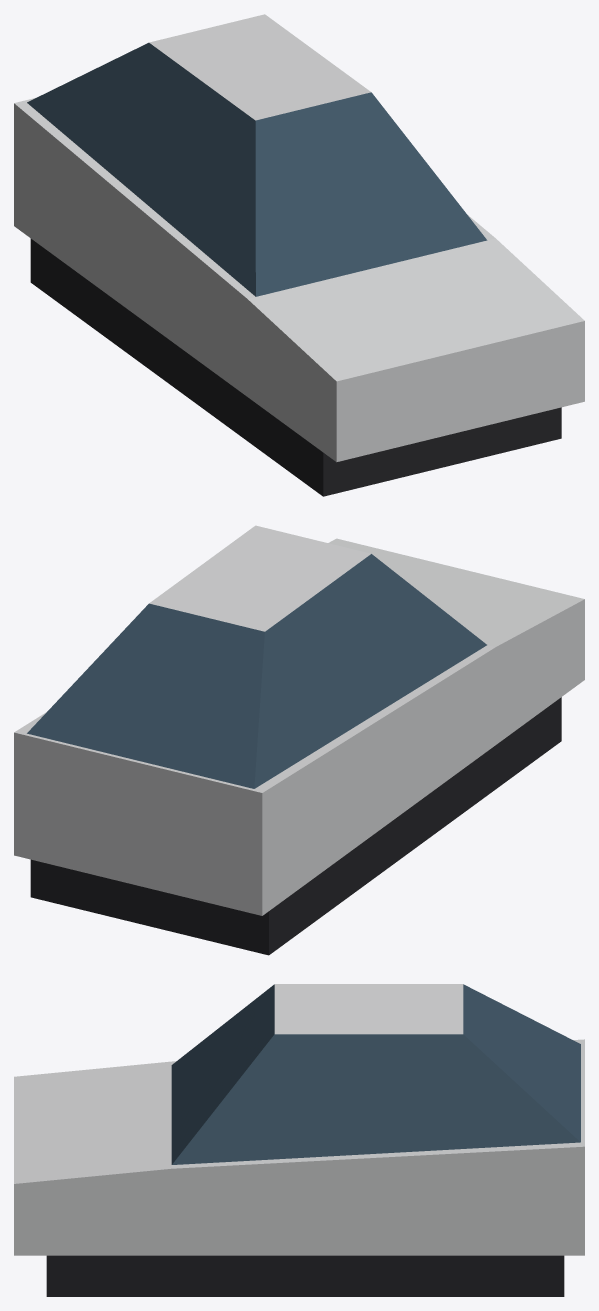
Rendered from 2_far.fbx.
3 views of the same model, one above another, from view 1: azimuth 30°, elevation 25°; view 2: azimuth 150°, elevation 25°; view 3: azimuth 270°, elevation 25° (orthographic). The views are drawn at different scales.
Visible parts, largest first — view 1: 10_2_far; view 2: 10_2_far; view 3: 10_2_far.
Part boxes in pixels (x1,y1,x2,y2): 10_2_far: (14, 14, 584, 496); 10_2_far: (14, 525, 584, 955); 10_2_far: (14, 984, 584, 1296).
Size of the model in its own units: 1.48 by 1.52 by 3.33.
